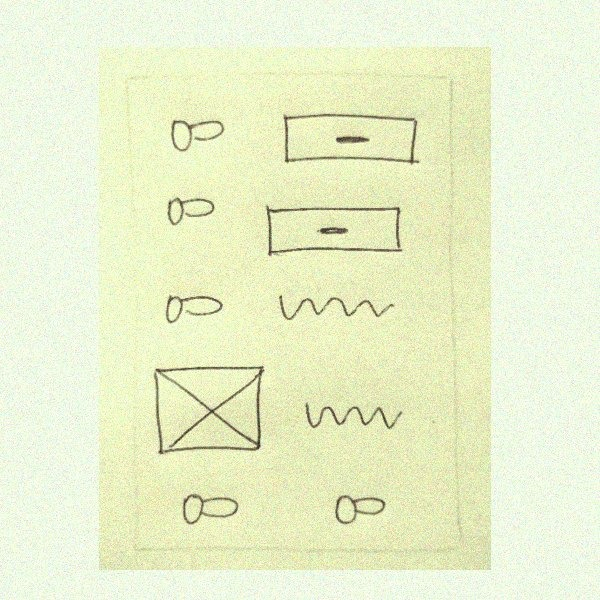image: (148, 358, 268, 462)
switch: (171, 484, 247, 532), (162, 285, 226, 335), (164, 112, 231, 159), (325, 489, 392, 531), (158, 189, 220, 232)
text: (271, 289, 400, 336), (297, 392, 407, 438)
text_input: (260, 198, 414, 264), (270, 107, 428, 171)
